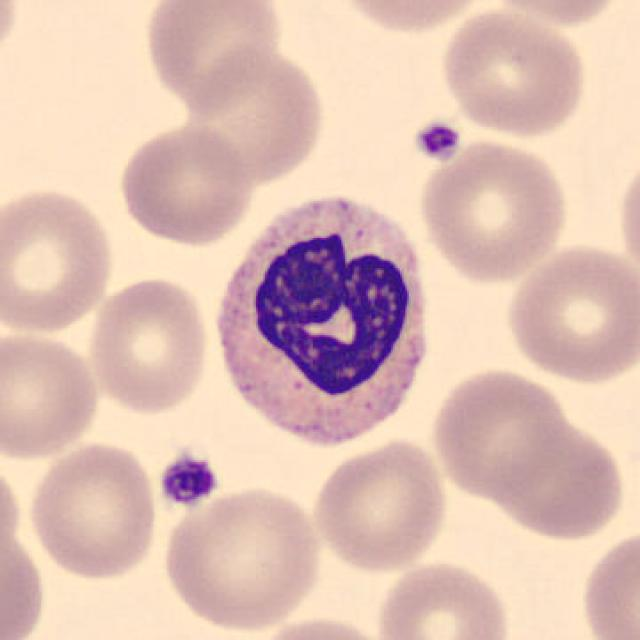Neutrophil: (204, 182, 441, 466)
Platelets: (155, 450, 222, 510), (409, 118, 464, 164)
RBC: (158, 483, 326, 633), (414, 136, 572, 286), (176, 42, 327, 187), (438, 4, 590, 141), (500, 240, 638, 388), (308, 435, 452, 575), (23, 437, 160, 582), (426, 365, 570, 502), (84, 273, 214, 416), (0, 182, 119, 336), (114, 120, 254, 248), (489, 416, 629, 543), (138, 0, 286, 116), (0, 326, 103, 462), (372, 557, 516, 640), (576, 523, 638, 640), (330, 0, 498, 37), (0, 518, 50, 638), (480, 0, 633, 28), (245, 613, 394, 640), (613, 144, 640, 292), (0, 453, 23, 575), (0, 2, 23, 76)
